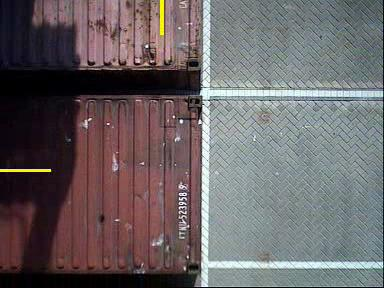groundmarker_2: (196, 155, 230, 224), (199, 1, 220, 30)
